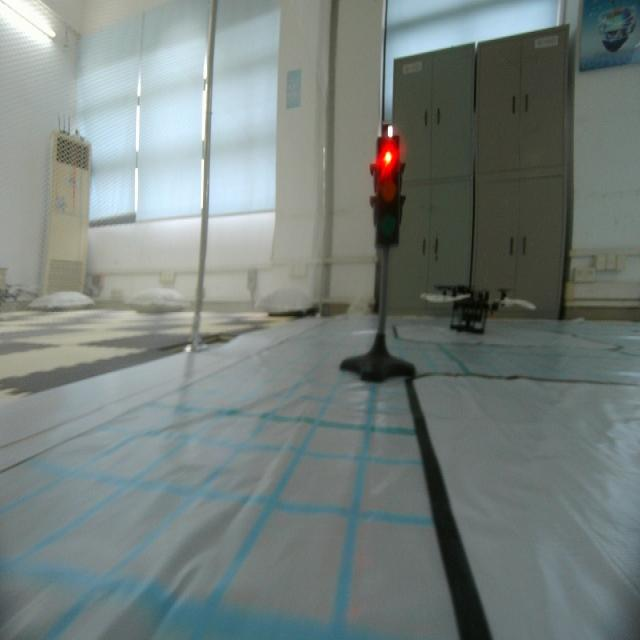red: (371, 129, 405, 255)
